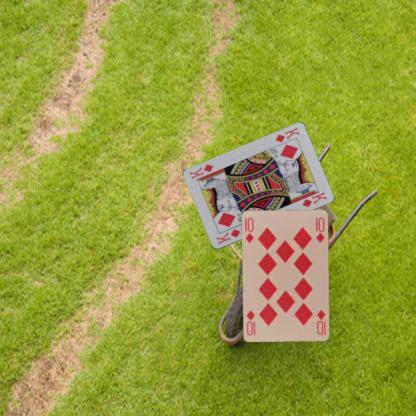10d: (314, 308, 327, 336), (243, 216, 254, 245)
Kd: (213, 227, 242, 246), (273, 124, 300, 144)
